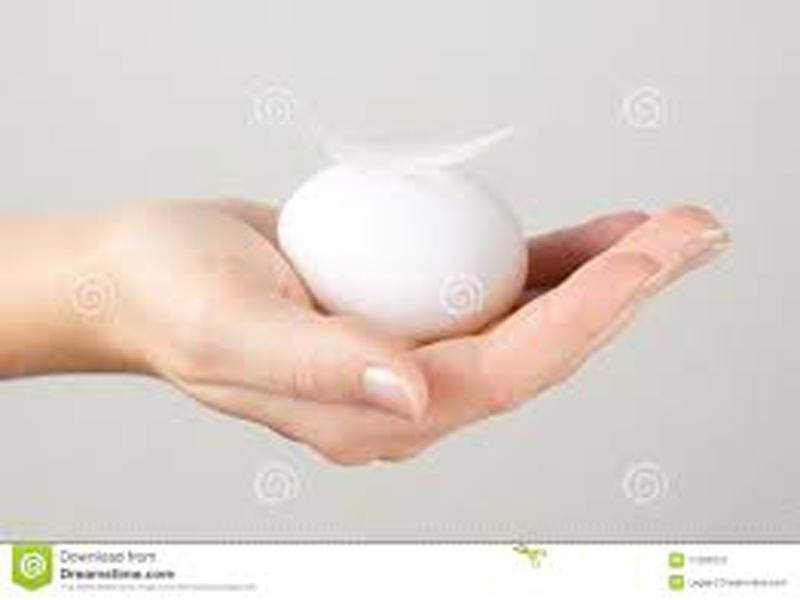Eggs: (275, 165, 531, 339)
